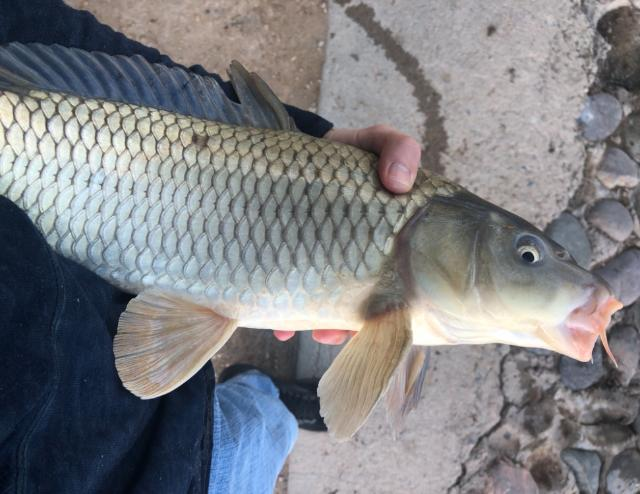Sirip Dada: (304, 296, 446, 454), (554, 266, 640, 392)
Sirip Perut: (112, 282, 238, 415)
Sirip Punggung: (1, 29, 310, 152)
